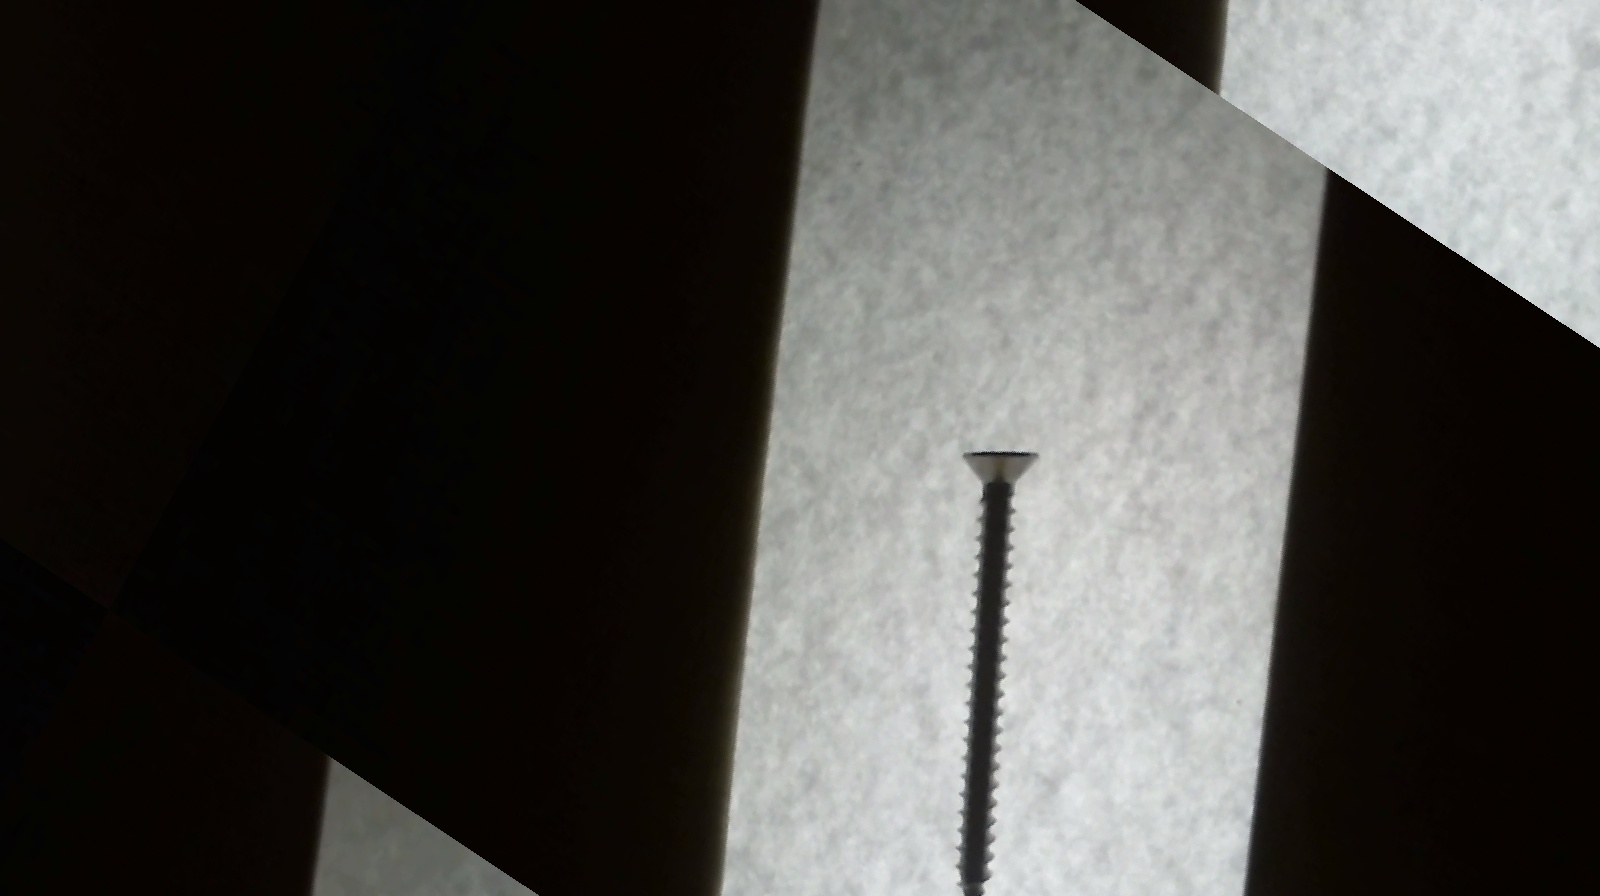S002: (771, 410, 1187, 895)
